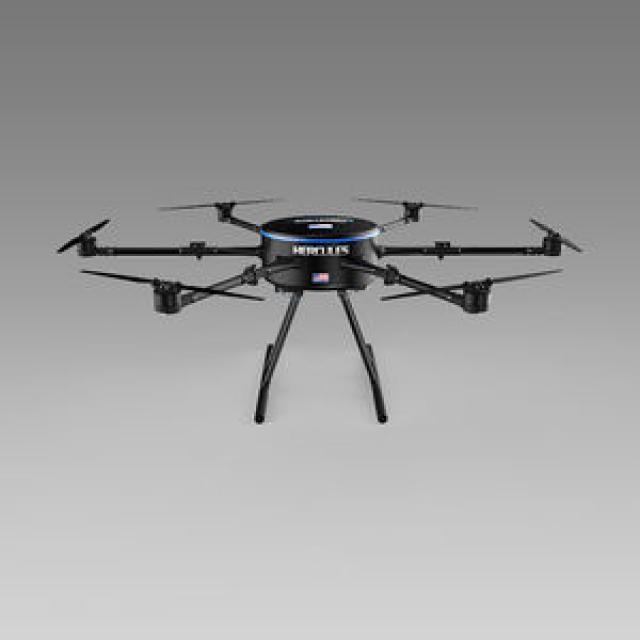drone: (10, 155, 603, 410)
